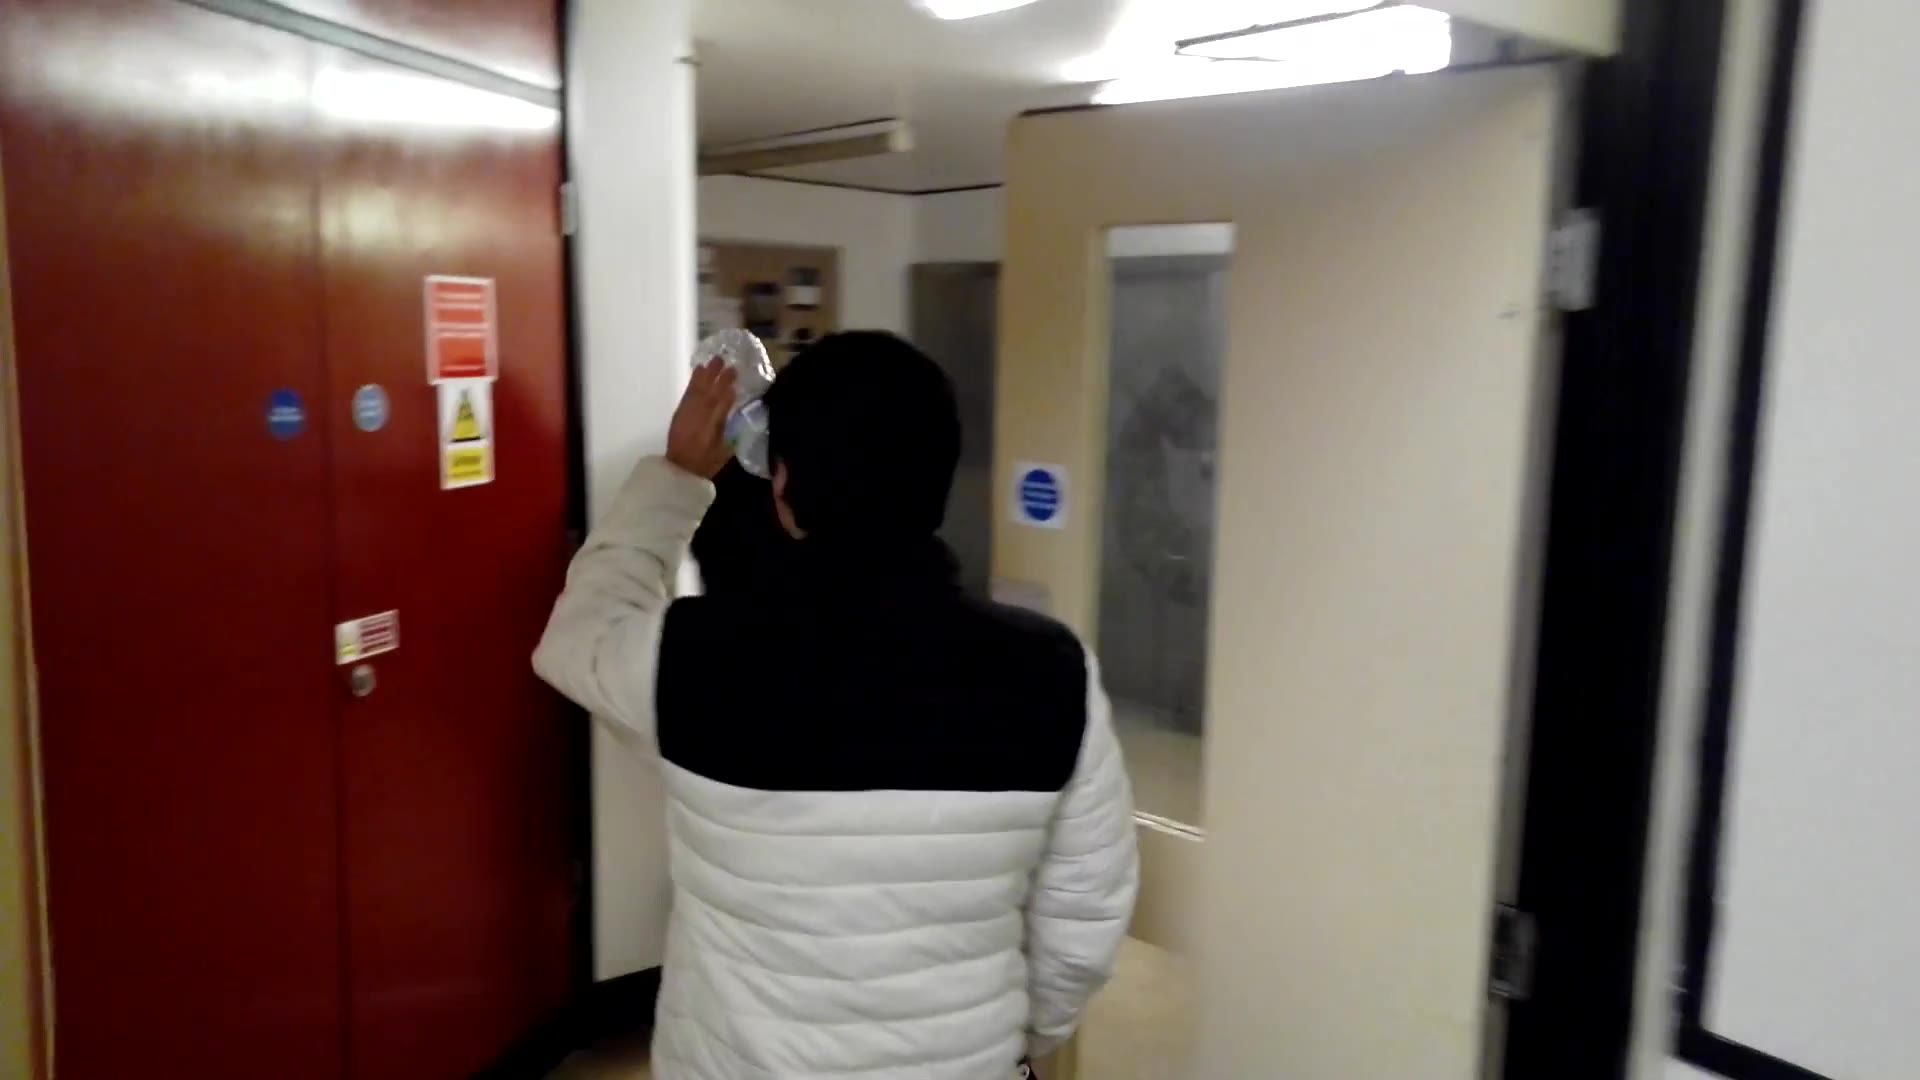Person: (660, 322, 1078, 1080)
